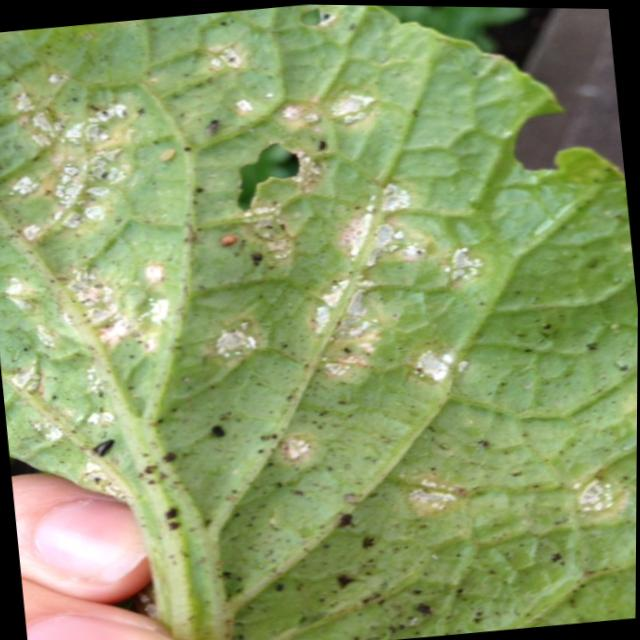Bad: (0, 4, 638, 640), (190, 97, 374, 285)
